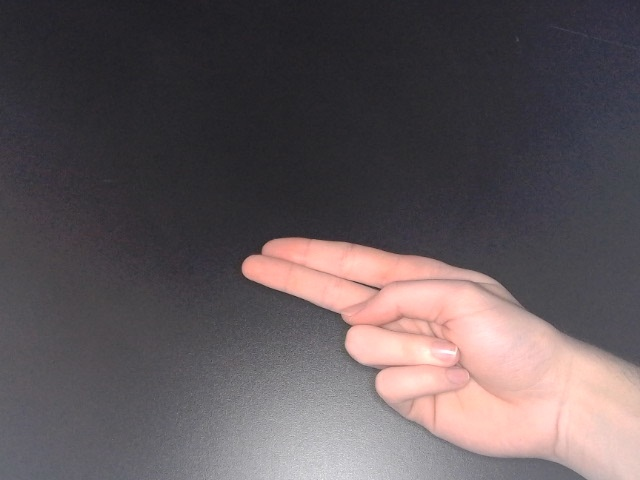h: (237, 234, 579, 475)
